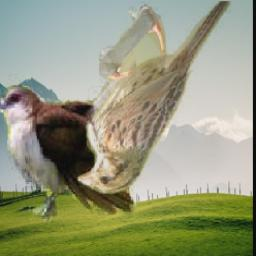Cuckoo: (0, 0, 136, 224)
Sparrow: (77, 2, 232, 197)
